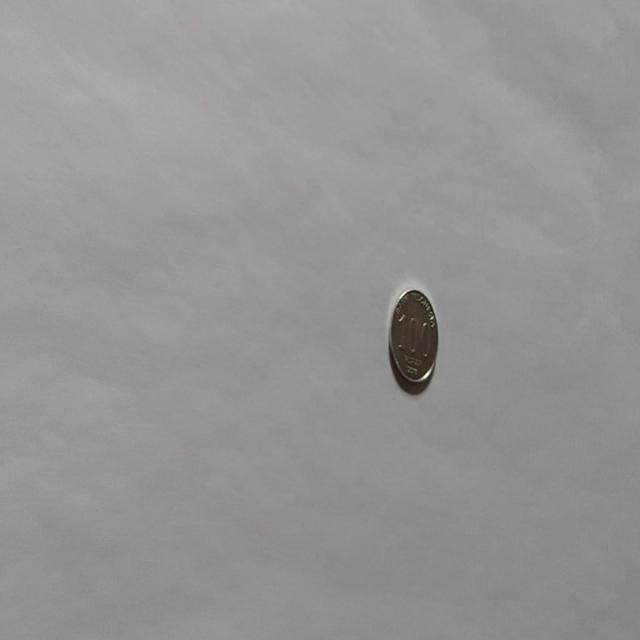seratus rupiah: (388, 286, 438, 388)
